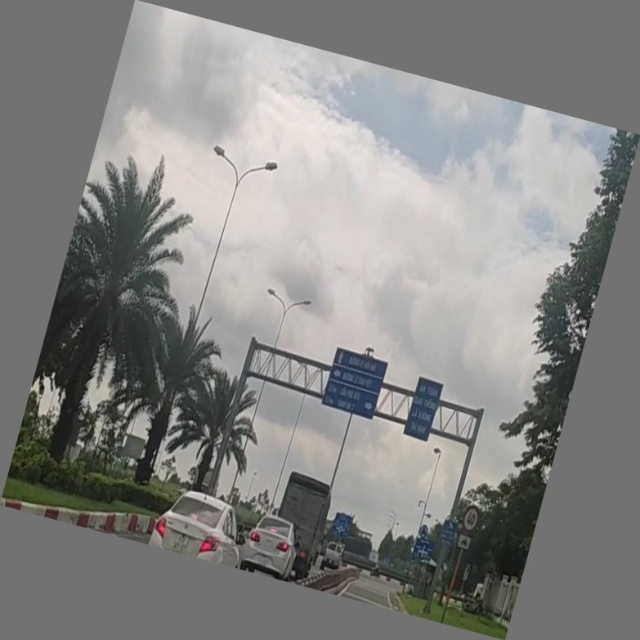P.127*40: (459, 504, 482, 534)
S.505a*Xe may: (455, 531, 474, 552)
